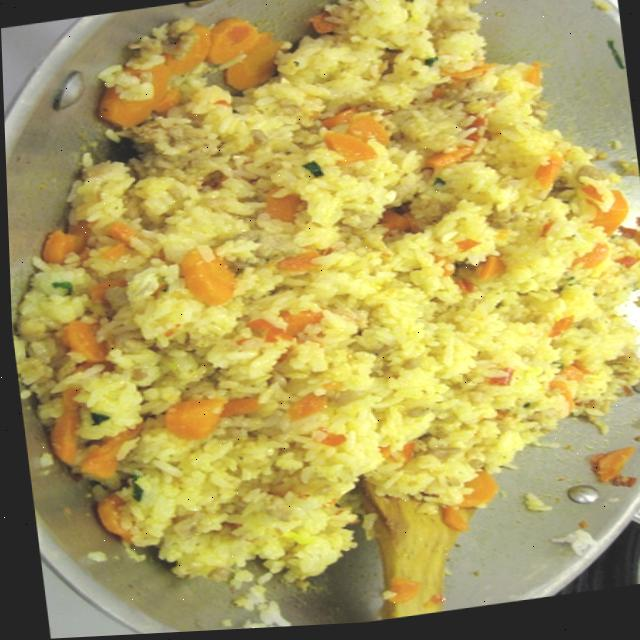米饭主食: (2, 0, 640, 631)
